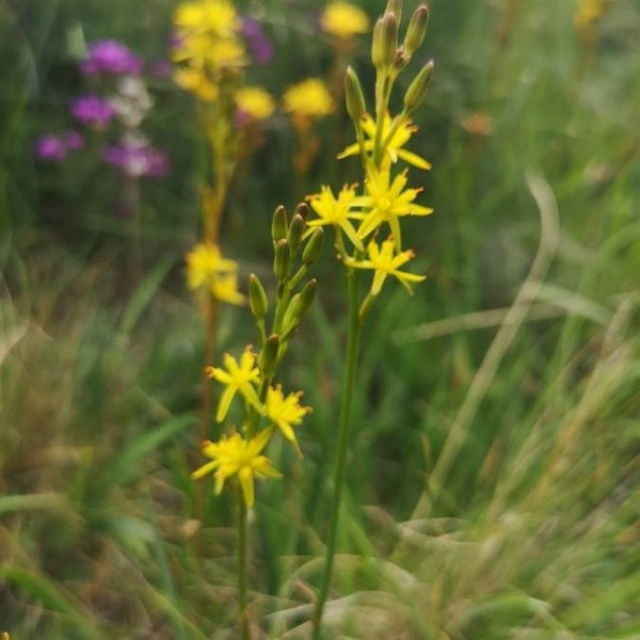obstacle: (212, 49, 431, 594)
